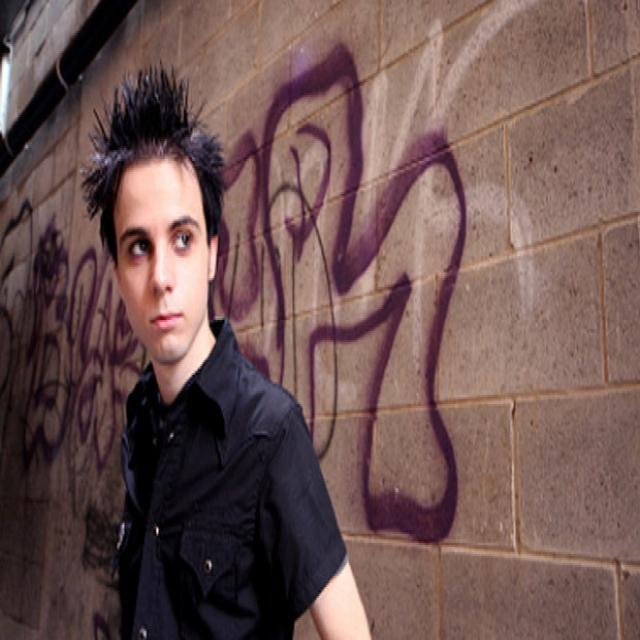human: (76, 63, 377, 640)
